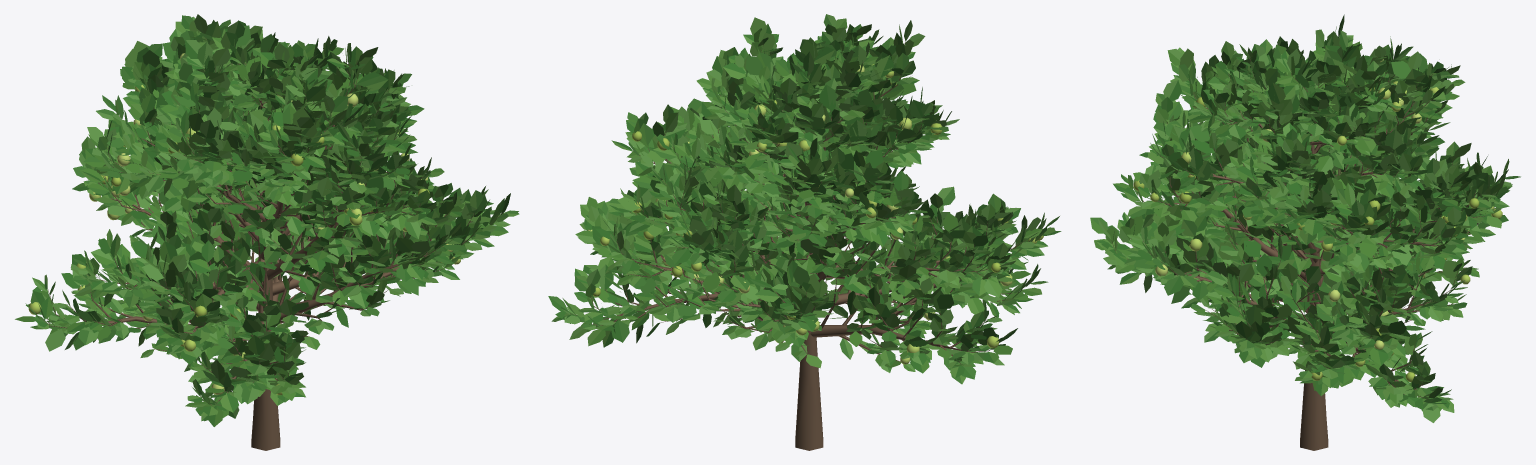
The model's file is pommier_verte_ete.glb.
The picture shows the model from 3 angles, left to right: view 1: azimuth 30°, elevation 25°; view 2: azimuth 150°, elevation 25°; view 3: azimuth 270°, elevation 25°; orthographic projection. The views are drawn at different scales.
Parts seen in each view (by area): view 1: Pommier_Feuillage, Pommier_Tronc, Pommier_Pommes; view 2: Pommier_Feuillage, Pommier_Tronc, Pommier_Pommes; view 3: Pommier_Feuillage, Pommier_Tronc, Pommier_Pommes.
Boxes of the visible parts, x1,y1,x2,y2 form: Pommier_Feuillage: (15, 14, 519, 426); Pommier_Tronc: (38, 38, 503, 450); Pommier_Pommes: (28, 53, 460, 395); Pommier_Feuillage: (548, 14, 1061, 384); Pommier_Tronc: (570, 42, 1042, 450); Pommier_Pommes: (587, 64, 1043, 364); Pommier_Feuillage: (1090, 14, 1520, 422); Pommier_Tronc: (1111, 47, 1501, 450); Pommier_Pommes: (1133, 57, 1502, 382).
Size of the model in its own units: 5.11 by 4.41 by 4.23.
